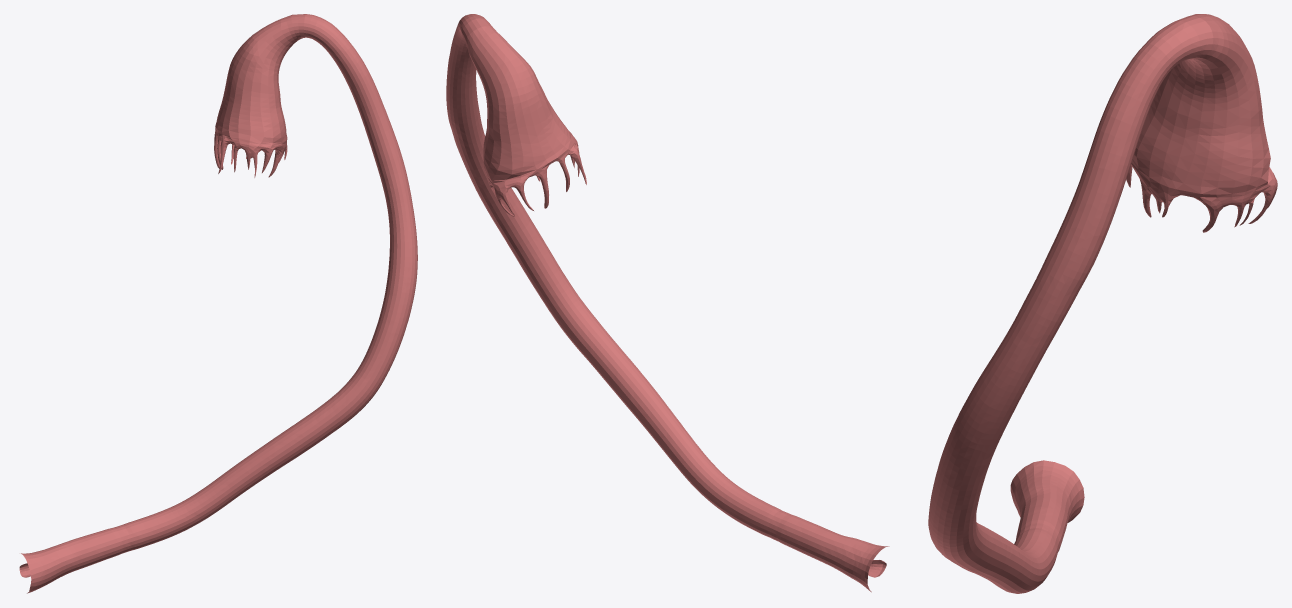
Rendered from VH_F_Fallopian_Tube_L_0.8.glb.
The picture shows the model from 3 angles, left to right: view 1: azimuth 30°, elevation 25°; view 2: azimuth 150°, elevation 25°; view 3: azimuth 270°, elevation 25°; orthographic projection. The views are drawn at different scales.
Visible parts, largest first — view 1: VH_F_ampulla_of_uterine_tube_L, VH_F_uterine_tube_infundibulum_L, VH_F_isthmus_of_fallopian_tube_L, VH_F_fibria_of_uterine_tube_L; view 2: VH_F_ampulla_of_uterine_tube_L, VH_F_uterine_tube_infundibulum_L, VH_F_isthmus_of_fallopian_tube_L, VH_F_fibria_of_uterine_tube_L; view 3: VH_F_ampulla_of_uterine_tube_L, VH_F_uterine_tube_infundibulum_L, VH_F_isthmus_of_fallopian_tube_L, VH_F_fibria_of_uterine_tube_L.
Boxes of the visible parts, left/top/right/bottom form: VH_F_ampulla_of_uterine_tube_L: left=118, top=14, right=417, bottom=551; VH_F_uterine_tube_infundibulum_L: left=215, top=15, right=299, bottom=142; VH_F_isthmus_of_fallopian_tube_L: left=19, top=526, right=127, bottom=593; VH_F_fibria_of_uterine_tube_L: left=214, top=127, right=287, bottom=177; VH_F_ampulla_of_uterine_tube_L: left=446, top=14, right=785, bottom=539; VH_F_uterine_tube_infundibulum_L: left=465, top=26, right=574, bottom=180; VH_F_isthmus_of_fallopian_tube_L: left=771, top=512, right=889, bottom=592; VH_F_fibria_of_uterine_tube_L: left=486, top=137, right=586, bottom=216; VH_F_ampulla_of_uterine_tube_L: left=928, top=16, right=1213, bottom=593; VH_F_uterine_tube_infundibulum_L: left=1133, top=14, right=1270, bottom=194; VH_F_isthmus_of_fallopian_tube_L: left=1010, top=460, right=1084, bottom=551; VH_F_fibria_of_uterine_tube_L: left=1126, top=158, right=1277, bottom=232.
Size of the model in its own units: 0.0386 by 0.0445 by 0.0185.
